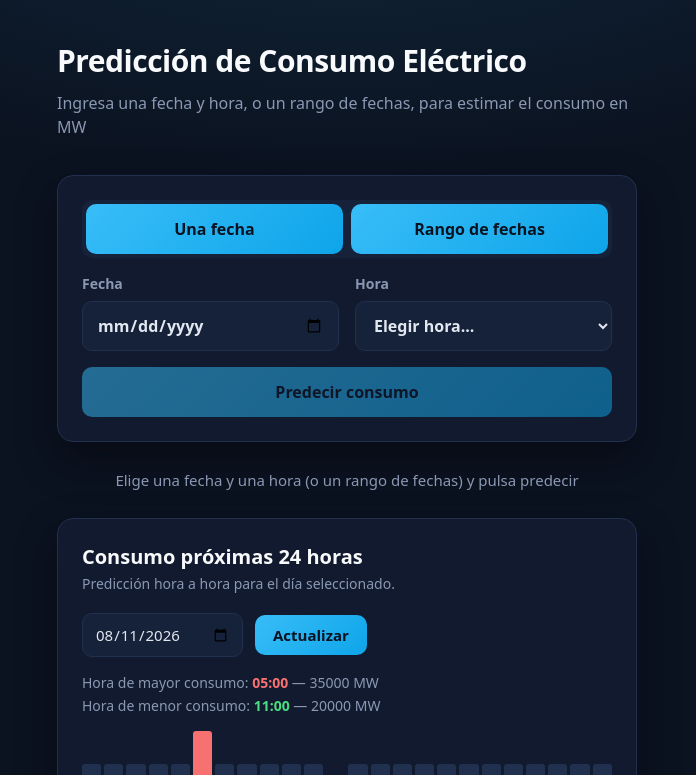
Test: App (simulación de UI) › cambia el texto del botón mientras calcula
Expected: the text "Hora de mayor consumo: 05:00 — 35000 MW" is shown, [82, 673, 379, 692]
Type "2026-08-11" into the date field labelled "Fecha" at coordinates (210, 326), box [82, 301, 339, 351]
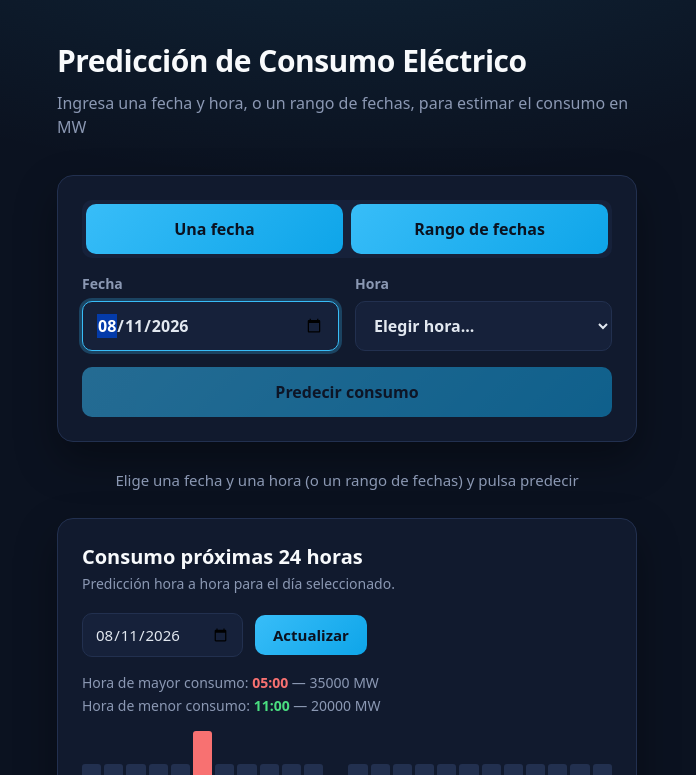
Select "14:00" in the dropdown labelled "Hora" at coordinates (484, 326), box [355, 301, 612, 351]
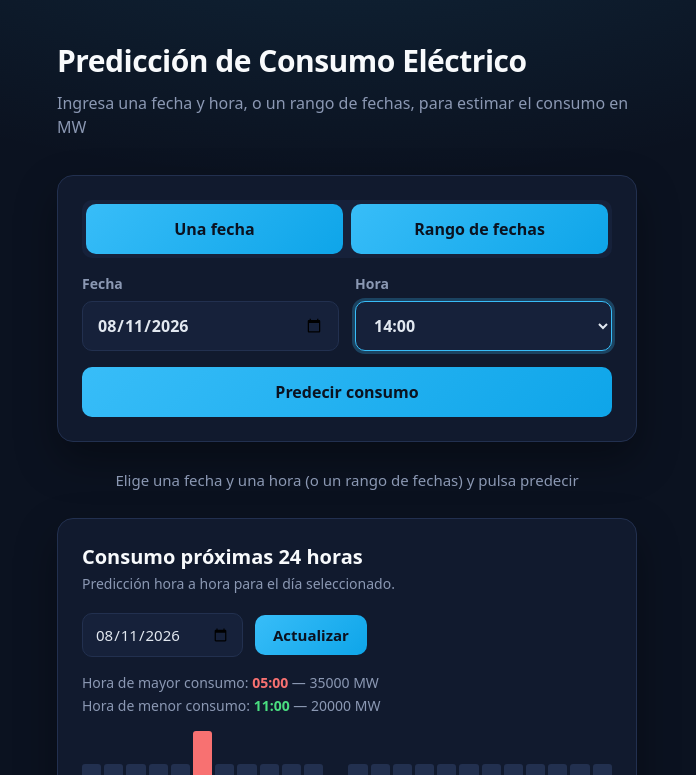
Click the button "Predecir consumo" at coordinates (347, 392), box [82, 367, 612, 417]
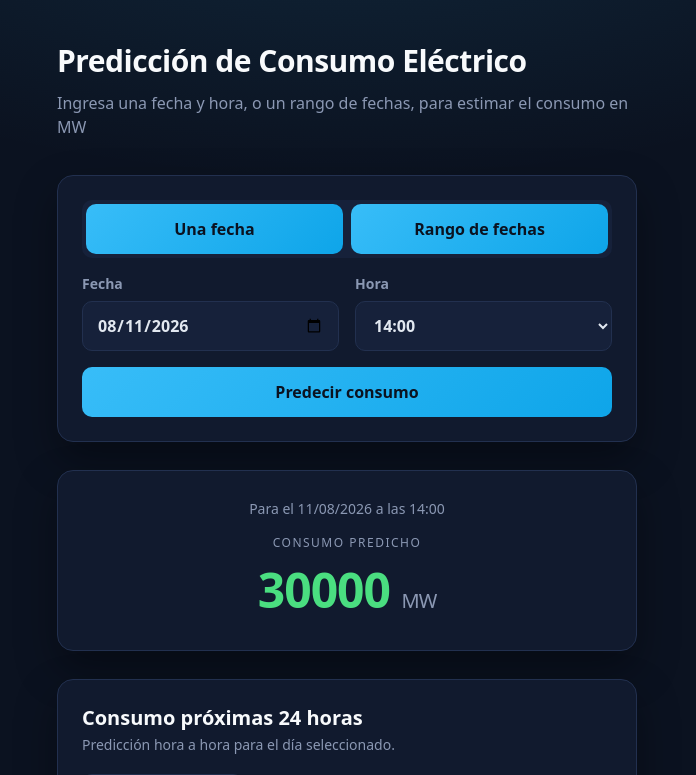
Expected: the text "MW" is shown, [402, 587, 436, 614]
